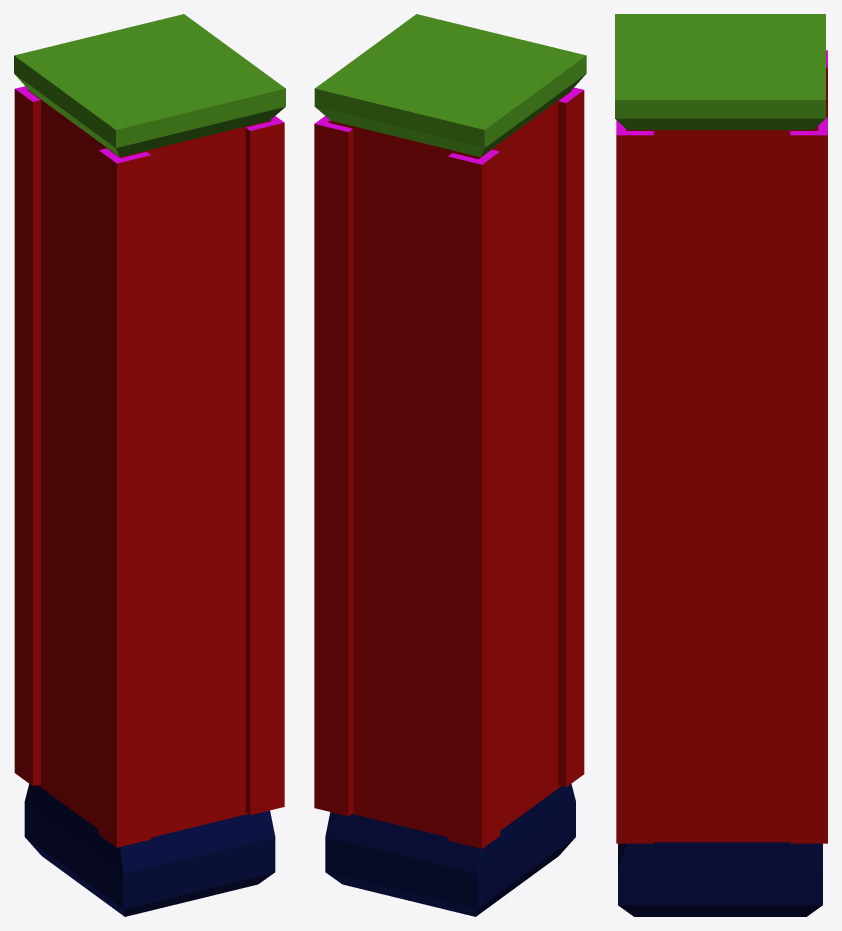
File: testcolumnaTiendasZ3.FBX
3 views of the same model, side by side, from view 1: azimuth 30°, elevation 25°; view 2: azimuth 150°, elevation 25°; view 3: azimuth 270°, elevation 25° (orthographic). The views are drawn at different scales.
Visible parts, largest first — view 1: Columna_Maestra_TiendasZ; view 2: Columna_Maestra_TiendasZ; view 3: Columna_Maestra_TiendasZ.
Boxes of the visible parts, box(x1,y1,x2,y2) form: Columna_Maestra_TiendasZ: box(14, 14, 285, 916); Columna_Maestra_TiendasZ: box(314, 14, 586, 916); Columna_Maestra_TiendasZ: box(615, 14, 827, 916).
Size of the model in its own units: 3.35 by 15.04 by 3.51.
